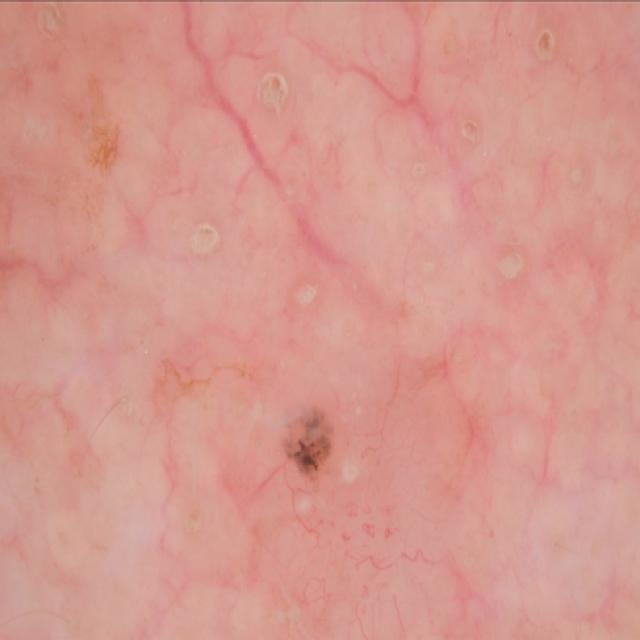Carcinoma: (250, 408, 437, 571)
